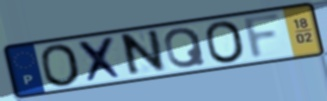F: (241, 11, 285, 62)
N: (121, 27, 169, 80)
O: (203, 19, 249, 65), (38, 43, 84, 88)
Q: (162, 26, 209, 70)
X: (75, 34, 127, 85)
